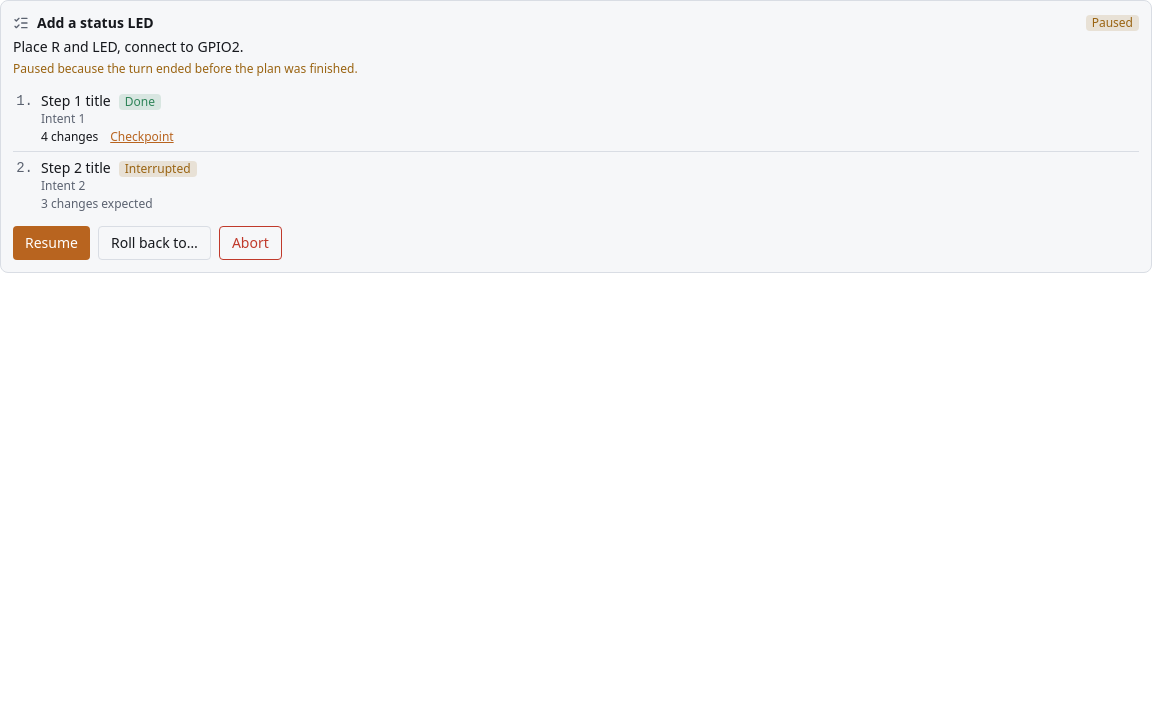
Test: PlanCard › paused shows Resume, Roll back to…, Abort; rollback confirms with the checkpoints
Expected: the button "Resume" is enabled, [13, 226, 90, 260]
Expected: the button "Abort" is enabled, [219, 226, 282, 260]
Click the button "Roll back to…".
click(154, 243)  # box [98, 226, 211, 260]
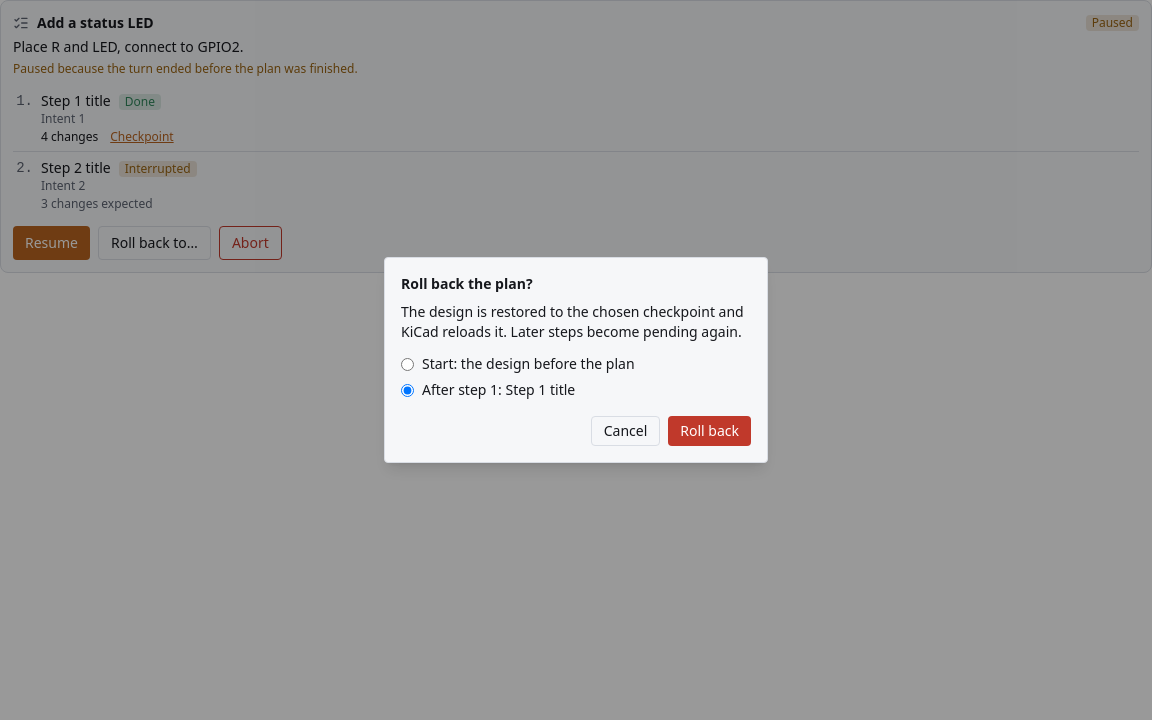
Now the radio button labelled "After step 1: Step 1 title" is checked, box [401, 384, 414, 397]
Now the radio button labelled "Start: the design before the plan" is not checked, box [401, 358, 414, 371]
Click the button "Roll back".
click(710, 431)  # box [668, 416, 751, 446]
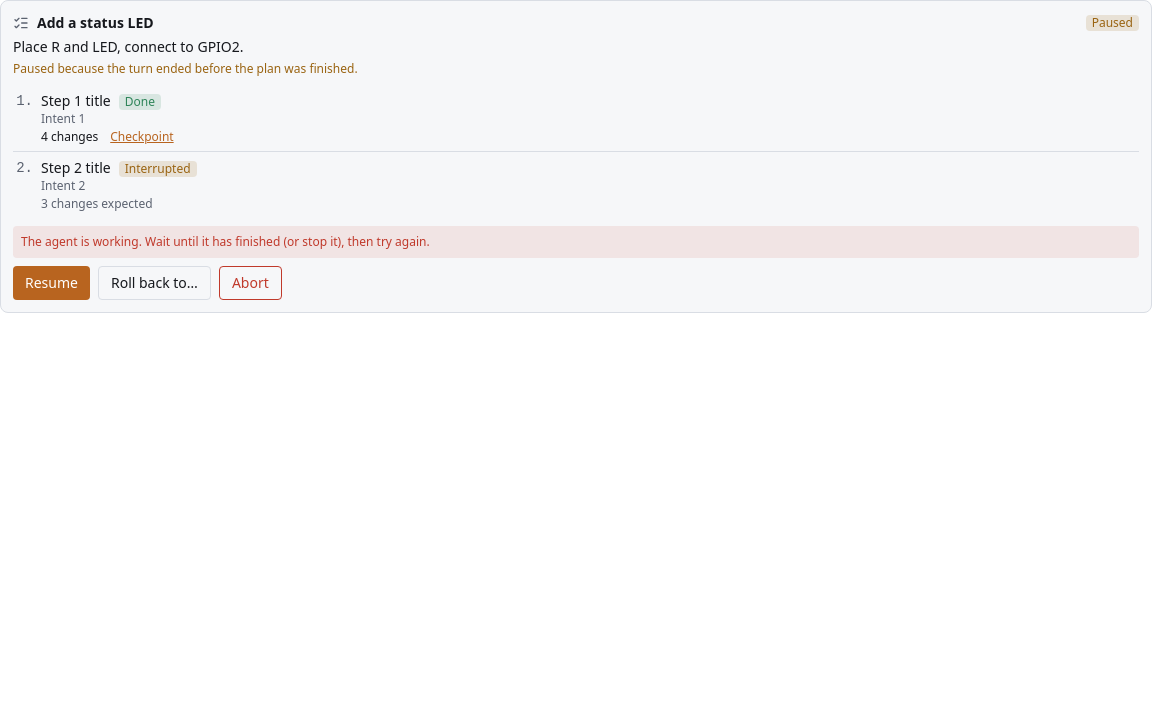
Now the message shows "agent is working", box [21, 233, 430, 250]
Now the dialog is gone
Note: retry to the start
Click the button "Roll back to…".
click(154, 283)  # box [98, 266, 211, 300]
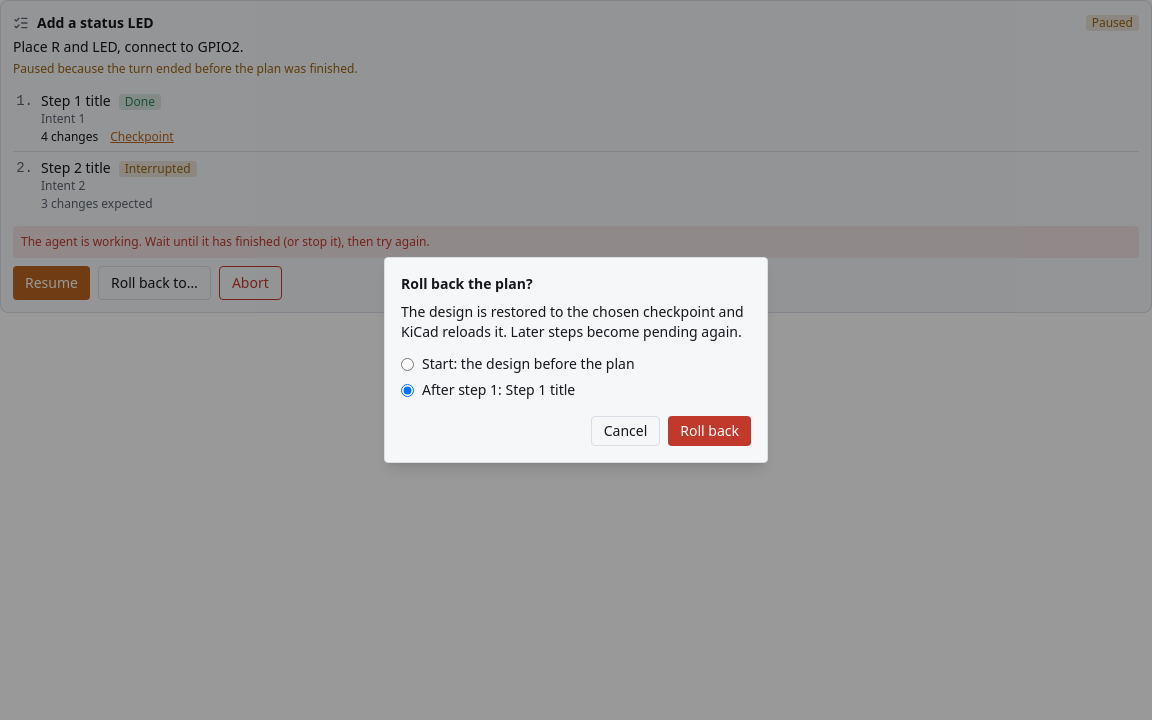
Click the radio button labelled "Start: the design before the plan".
click(408, 364)  # box [401, 358, 414, 371]
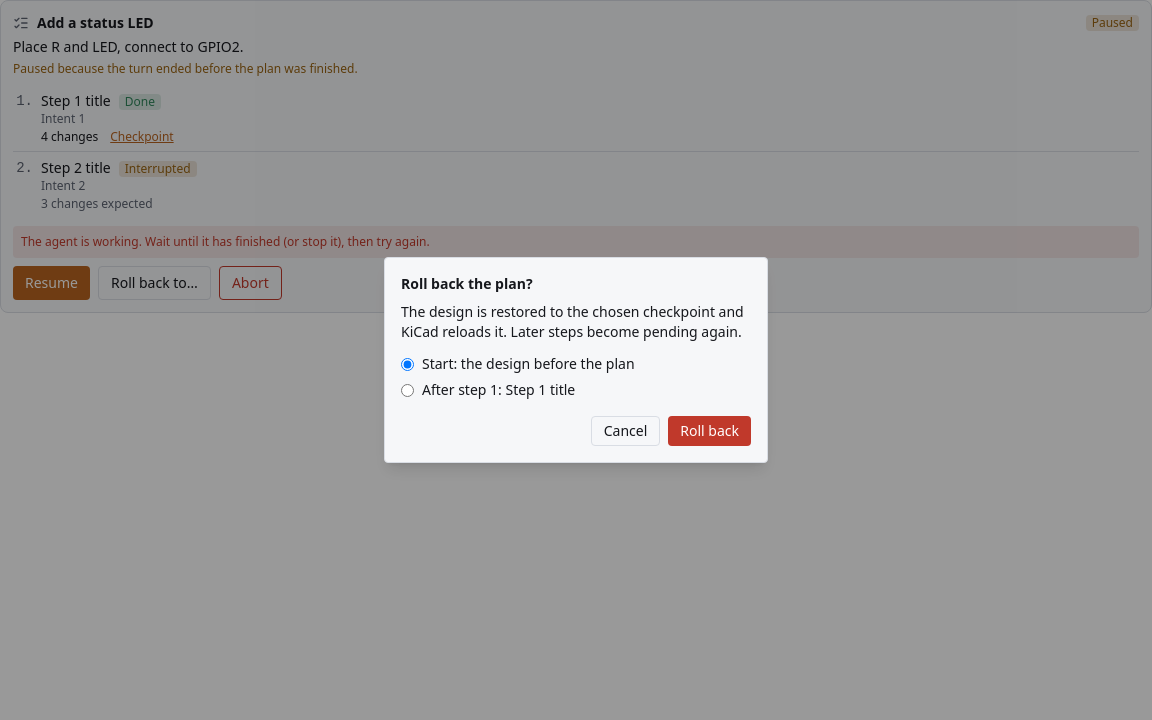
Click the button "Roll back".
click(710, 431)  # box [668, 416, 751, 446]
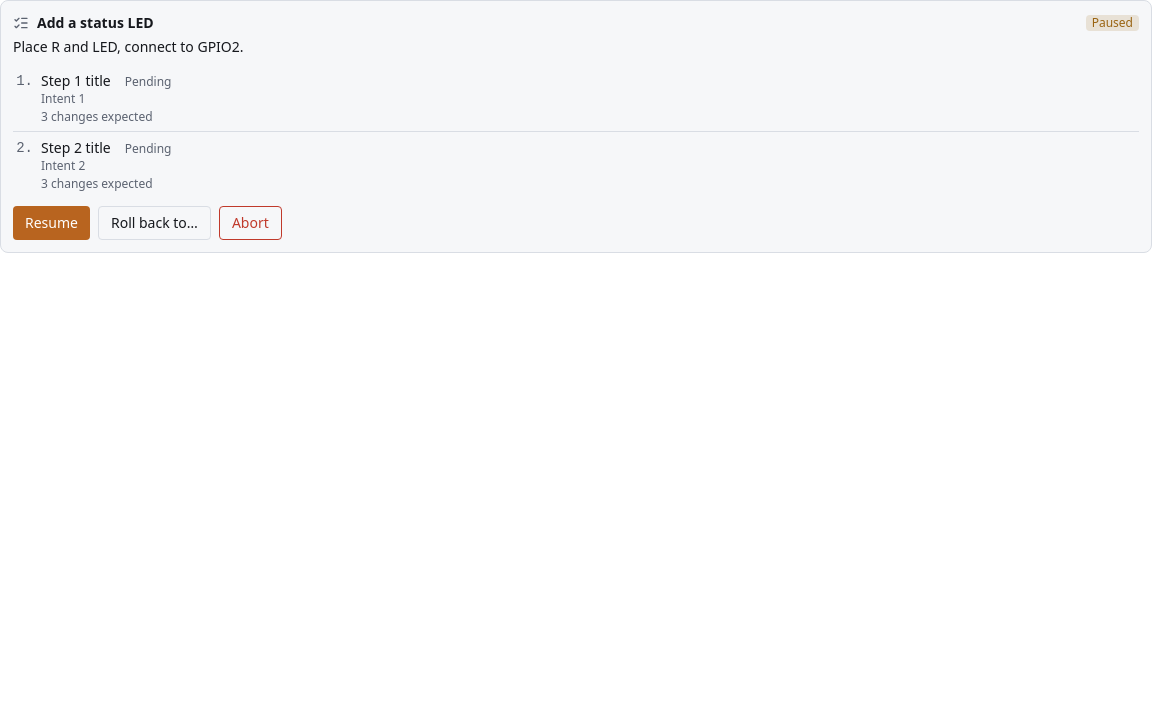
Now the message "The agent is working. Wait until it has finished (or stop it), then try again." is gone
